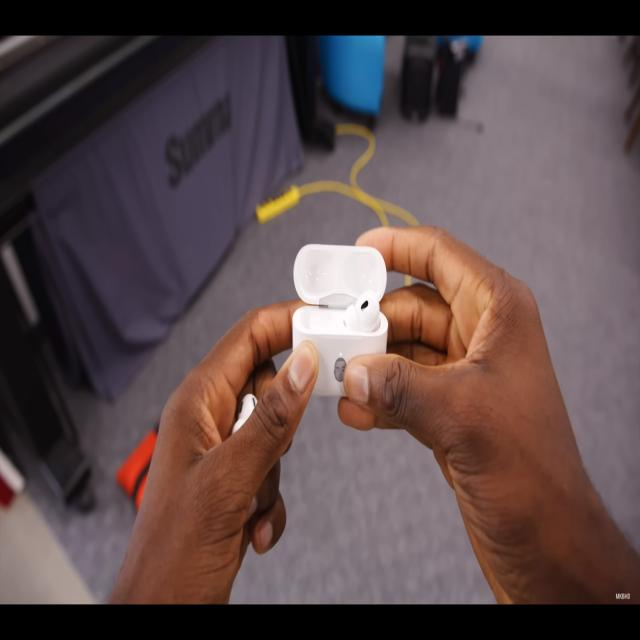airpods: (291, 241, 389, 398)
